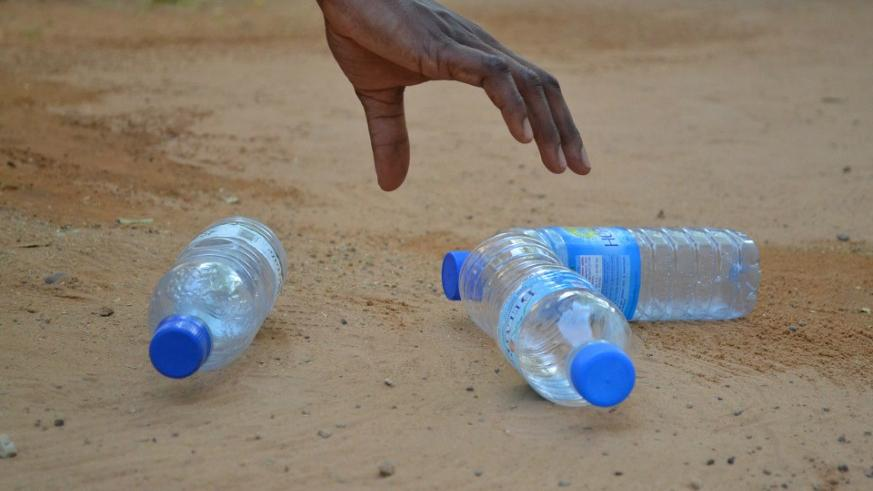bottle: (456, 232, 637, 411), (442, 224, 756, 320), (148, 216, 288, 377)
